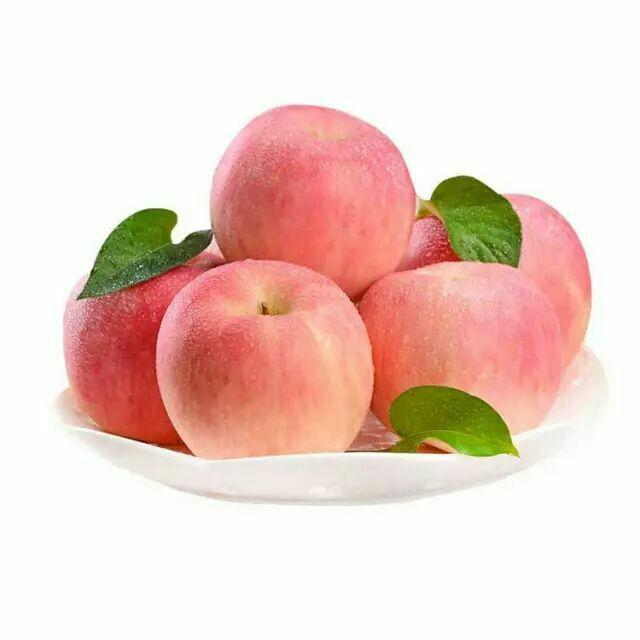apple: (156, 256, 376, 458), (360, 263, 580, 455), (204, 103, 419, 298), (65, 241, 209, 451)
